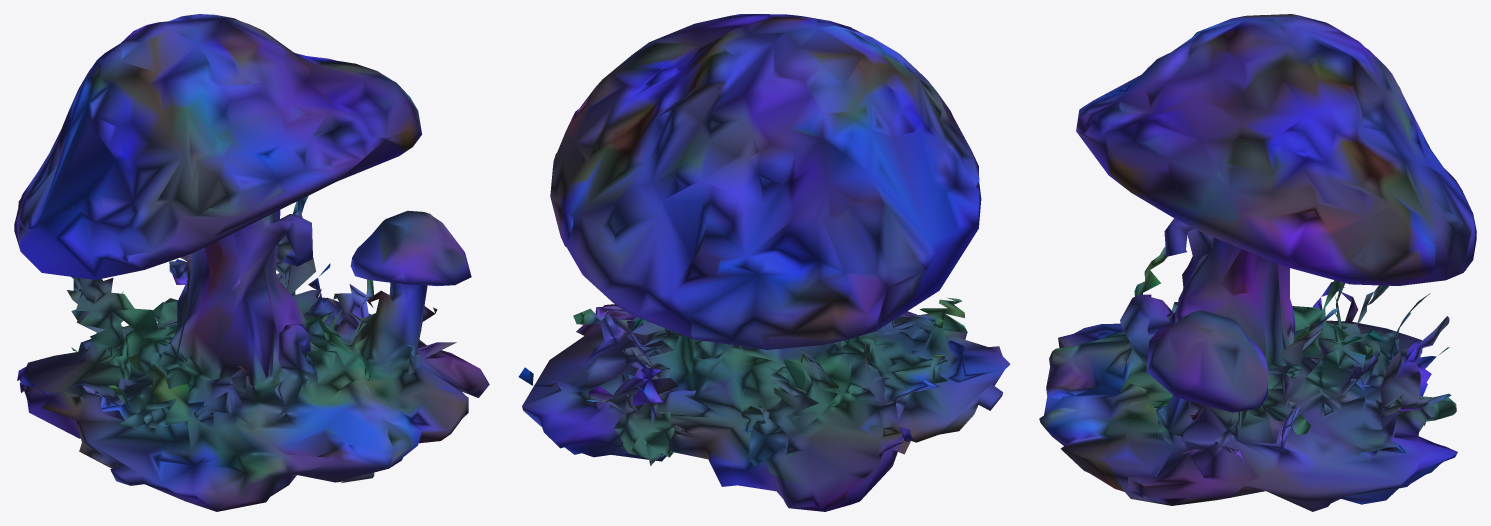
Rendered from glowcap.glb.
3 views of the same model, side by side, from view 1: azimuth 30°, elevation 25°; view 2: azimuth 150°, elevation 25°; view 3: azimuth 270°, elevation 25° (orthographic). The views are drawn at different scales.
Parts seen in each view (by area): view 1: Mesh_0; view 2: Mesh_0; view 3: Mesh_0.
Boxes of the visible parts, x1=… form: Mesh_0: x1=14, y1=14, x2=489, y2=511; Mesh_0: x1=518, y1=14, x2=1010, y2=511; Mesh_0: x1=1039, y1=14, x2=1476, y2=511.
Size of the model in its own units: 0.9187 by 0.9 by 0.9089.
